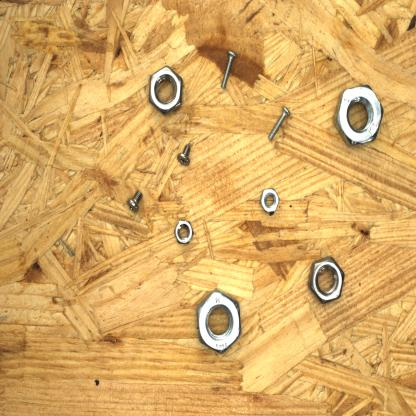screw: (267, 101, 294, 143), (220, 46, 238, 94), (124, 185, 146, 216), (173, 142, 195, 170)
